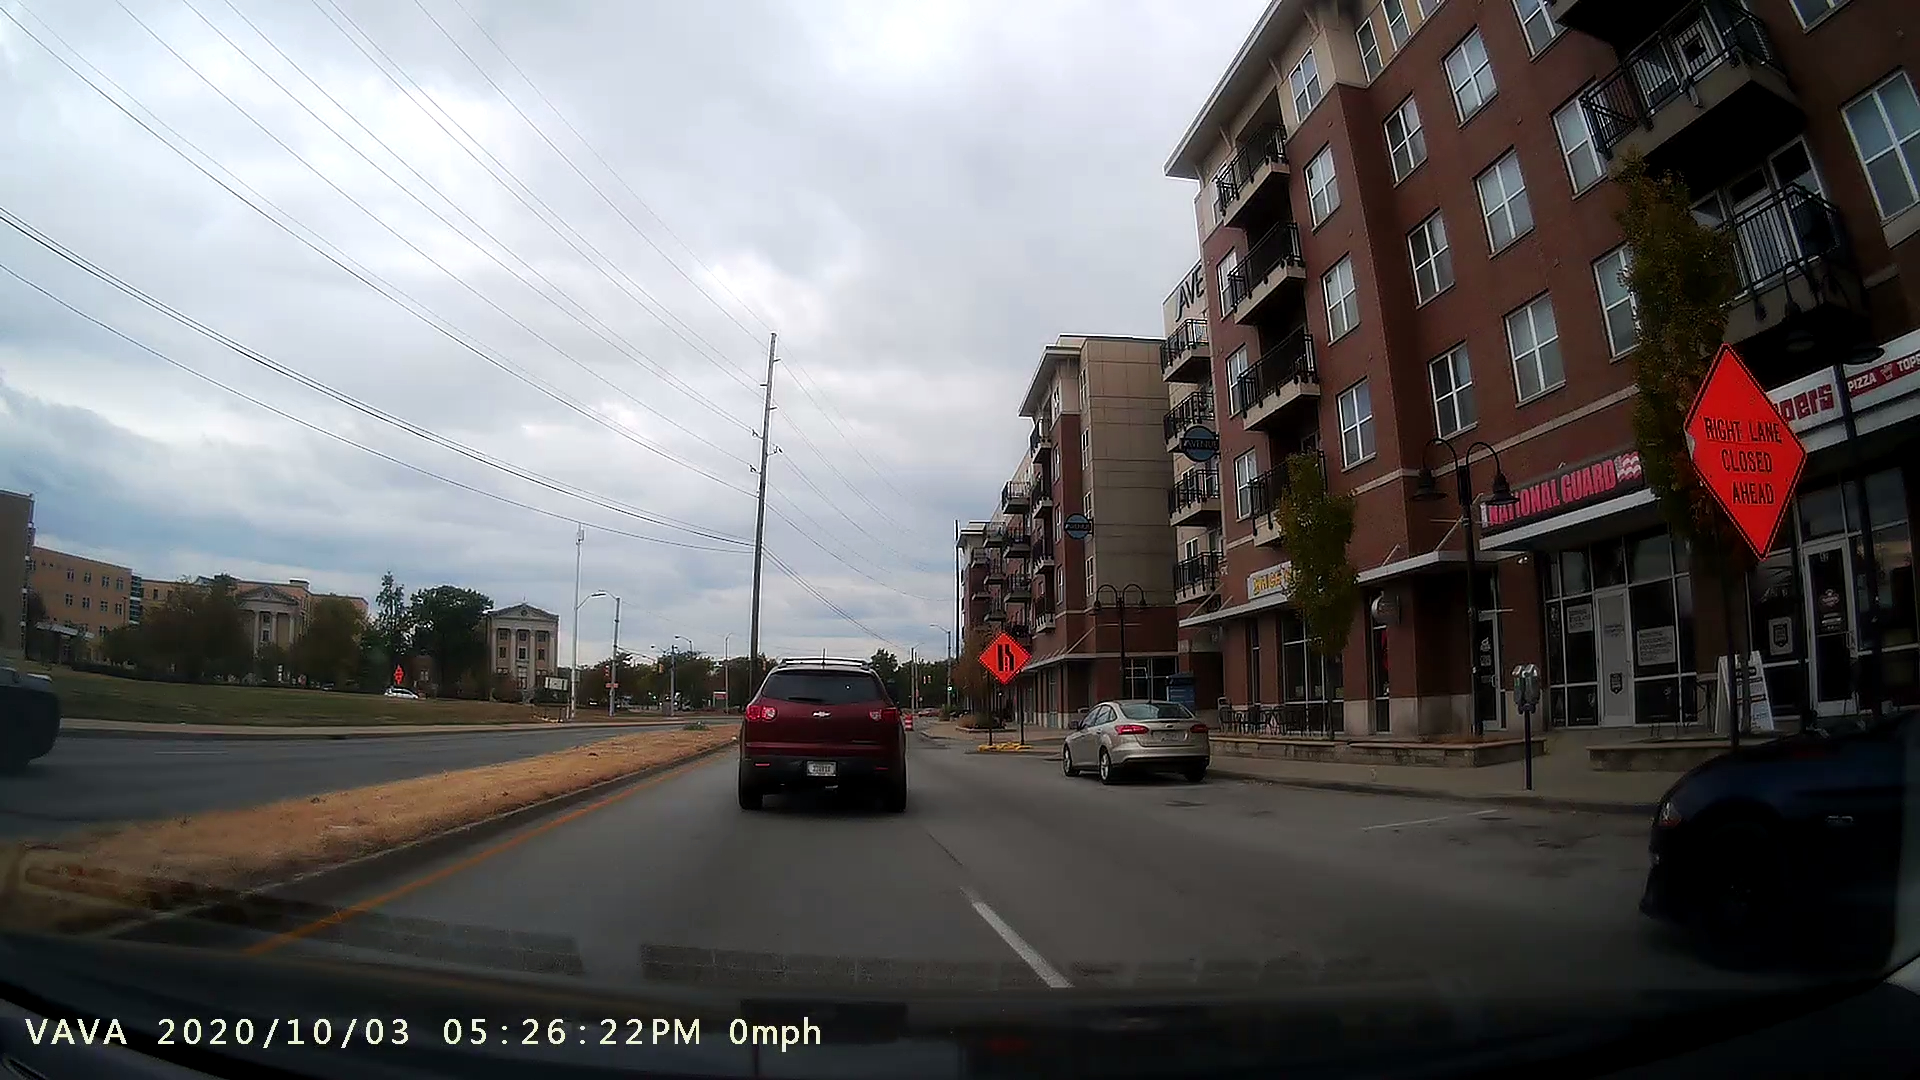ttcs_right_lane_closed_ahead: (1658, 323, 1807, 731)
ttcs_right_lane_reduction: (953, 609, 1035, 758)
